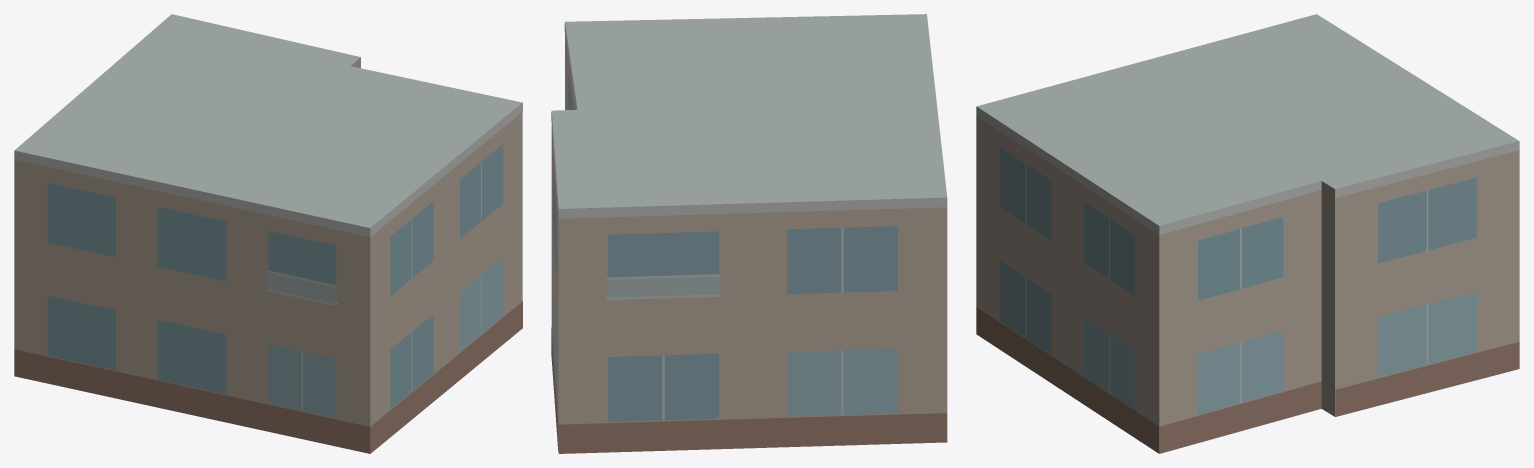
The model's file is survey-upis-32902555.glb.
The picture shows the model from 3 angles, left to right: view 1: azimuth 30°, elevation 25°; view 2: azimuth 150°, elevation 25°; view 3: azimuth 270°, elevation 25°; orthographic projection. The views are drawn at different scales.
Visible parts, largest first — view 1: survey-upis-32902555.tmp; view 2: survey-upis-32902555.tmp; view 3: survey-upis-32902555.tmp.
Part boxes in pixels (x1,y1,x2,y2): survey-upis-32902555.tmp: [14, 14, 522, 453]; survey-upis-32902555.tmp: [551, 14, 947, 453]; survey-upis-32902555.tmp: [976, 14, 1519, 453].
Bounding box in the file's own units: 12.18 × 6.1 × 13.19.
